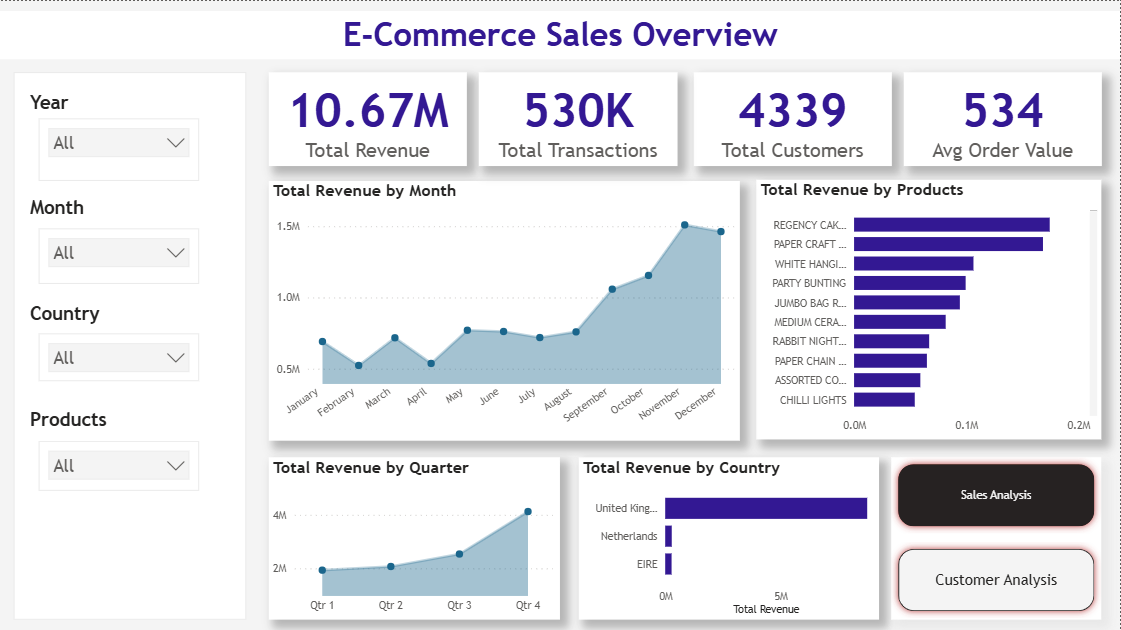

The page's visual inventory and layout, read from the dashboard file:
{"tool":"powerbi","page":{"name":"Sales Analysis","canvas":[1280,720],"ordinal":0},"visuals":[{"type":"textbox","box":[0,11,1280.3,54.9],"z":0},{"type":"card","fields":{"Values":["retail_full.Total Revenue"]},"box":[307.4,81,226.4,107],"z":1000},{"type":"card","fields":{"Values":["retail_full.Total Customers"]},"box":[793.1,81,226.4,107],"z":2000},{"type":"card","fields":{"Values":["retail_full.AOV"]},"box":[1033.3,81,226.4,107],"z":3000},{"type":"clusteredBarChart","title":"Total Revenue by Products","fields":{"Y":["retail_full.Total Revenue"],"Category":["products_cleaned.Description"]},"box":[864.3,204.3,394.3,297.1],"z":4000},{"type":"clusteredBarChart","fields":{"Y":["retail_full.Total Revenue"],"Category":["retail_full.Country"]},"box":[661.4,521.4,342.9,185.7],"z":5000},{"type":"lineChart","fields":{"Y":["retail_full.Total Revenue"],"Category":["retail_full.YearMonth.Variation.Date Hierarchy.Year","retail_full.YearMonth.Variation.Date Hierarchy.Month"]},"box":[307.1,205.7,538.6,297.1],"z":6000},{"type":"lineChart","fields":{"Y":["retail_full.Total Revenue"],"Category":["retail_full.YearMonth.Variation.Date Hierarchy.Quarter"]},"box":[307.1,521.4,332.9,185.7],"z":7000},{"type":"textbox","box":[15.7,81.4,265.7,625.7],"z":8000},{"type":"slicer","fields":{"Values":["retail_full.Country"]},"box":[44.3,380,182.9,54.3],"z":9000},{"type":"slicer","fields":{"Values":["retail_full.YearMonth.Variation.Date Hierarchy.Year"]},"box":[44.3,134.3,182.9,71.4],"z":10000},{"type":"slicer","fields":{"Values":["retail_full.YearMonth.Variation.Date Hierarchy.Month"]},"box":[44.3,260,182.9,62.9],"z":11000},{"type":"slicer","fields":{"Values":["retail_full.Description"]},"box":[44.3,502.9,182.9,57.1],"z":12000},{"type":"card","title":"Total Transactions","fields":{"Values":["CountNonNull(retail_full.StockCode)"]},"box":[547.1,81.4,227.1,107.1],"z":13000},{"type":"pageNavigator","box":[1018.6,521.4,240,185.7],"z":14000}]}

Visuals, with their boxes in screenshot pixels (x1, y1, x2, y2), scaled from the page's 1280x720 canvas onto the 1121x630 screenshot:
textbox: (left=0, top=10, right=1120, bottom=58)
card - retail_full.Total Revenue: (left=269, top=71, right=467, bottom=164)
card - retail_full.Total Customers: (left=695, top=71, right=893, bottom=164)
card - retail_full.AOV: (left=905, top=71, right=1103, bottom=164)
"Total Revenue by Products" clusteredBarChart: (left=757, top=179, right=1102, bottom=439)
clusteredBarChart - retail_full.Total Revenue x retail_full.Country: (left=579, top=456, right=880, bottom=619)
lineChart - retail_full.Total Revenue x retail_full.YearMonth.Variation.Date Hierarchy.Year: (left=269, top=180, right=741, bottom=440)
lineChart - retail_full.Total Revenue x retail_full.YearMonth.Variation.Date Hierarchy.Quarter: (left=269, top=456, right=560, bottom=619)
textbox: (left=14, top=71, right=246, bottom=619)
slicer - retail_full.Country: (left=39, top=332, right=199, bottom=380)
slicer - retail_full.YearMonth.Variation.Date Hierarchy.Year: (left=39, top=118, right=199, bottom=180)
slicer - retail_full.YearMonth.Variation.Date Hierarchy.Month: (left=39, top=228, right=199, bottom=283)
slicer - retail_full.Description: (left=39, top=440, right=199, bottom=490)
"Total Transactions" card: (left=479, top=71, right=678, bottom=165)
pageNavigator: (left=892, top=456, right=1102, bottom=619)
